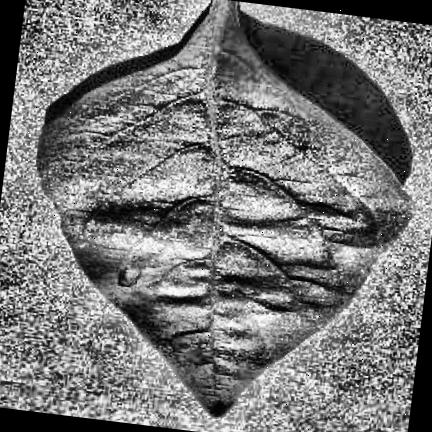leaf: (37, 0, 410, 415)
